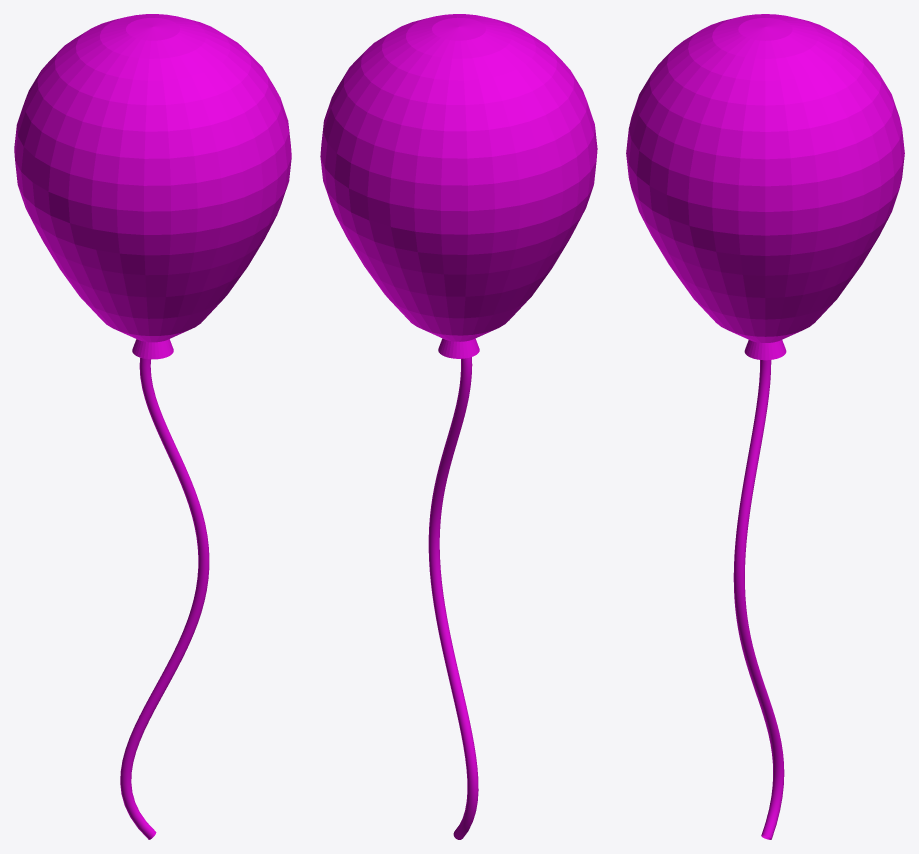
File: BalloonModelPink.gltf
The picture shows the model from 3 angles, left to right: view 1: azimuth 30°, elevation 25°; view 2: azimuth 150°, elevation 25°; view 3: azimuth 270°, elevation 25°; orthographic projection.
Parts seen in each view (by area): view 1: BalloonObject; view 2: BalloonObject; view 3: BalloonObject.
Boxes of the visible parts, x1,y1,x2,y2 form: BalloonObject: (14, 14, 291, 839); BalloonObject: (320, 14, 597, 839); BalloonObject: (626, 14, 904, 839).
Bounding box in the file's own units: 2 × 6.45 × 2.
